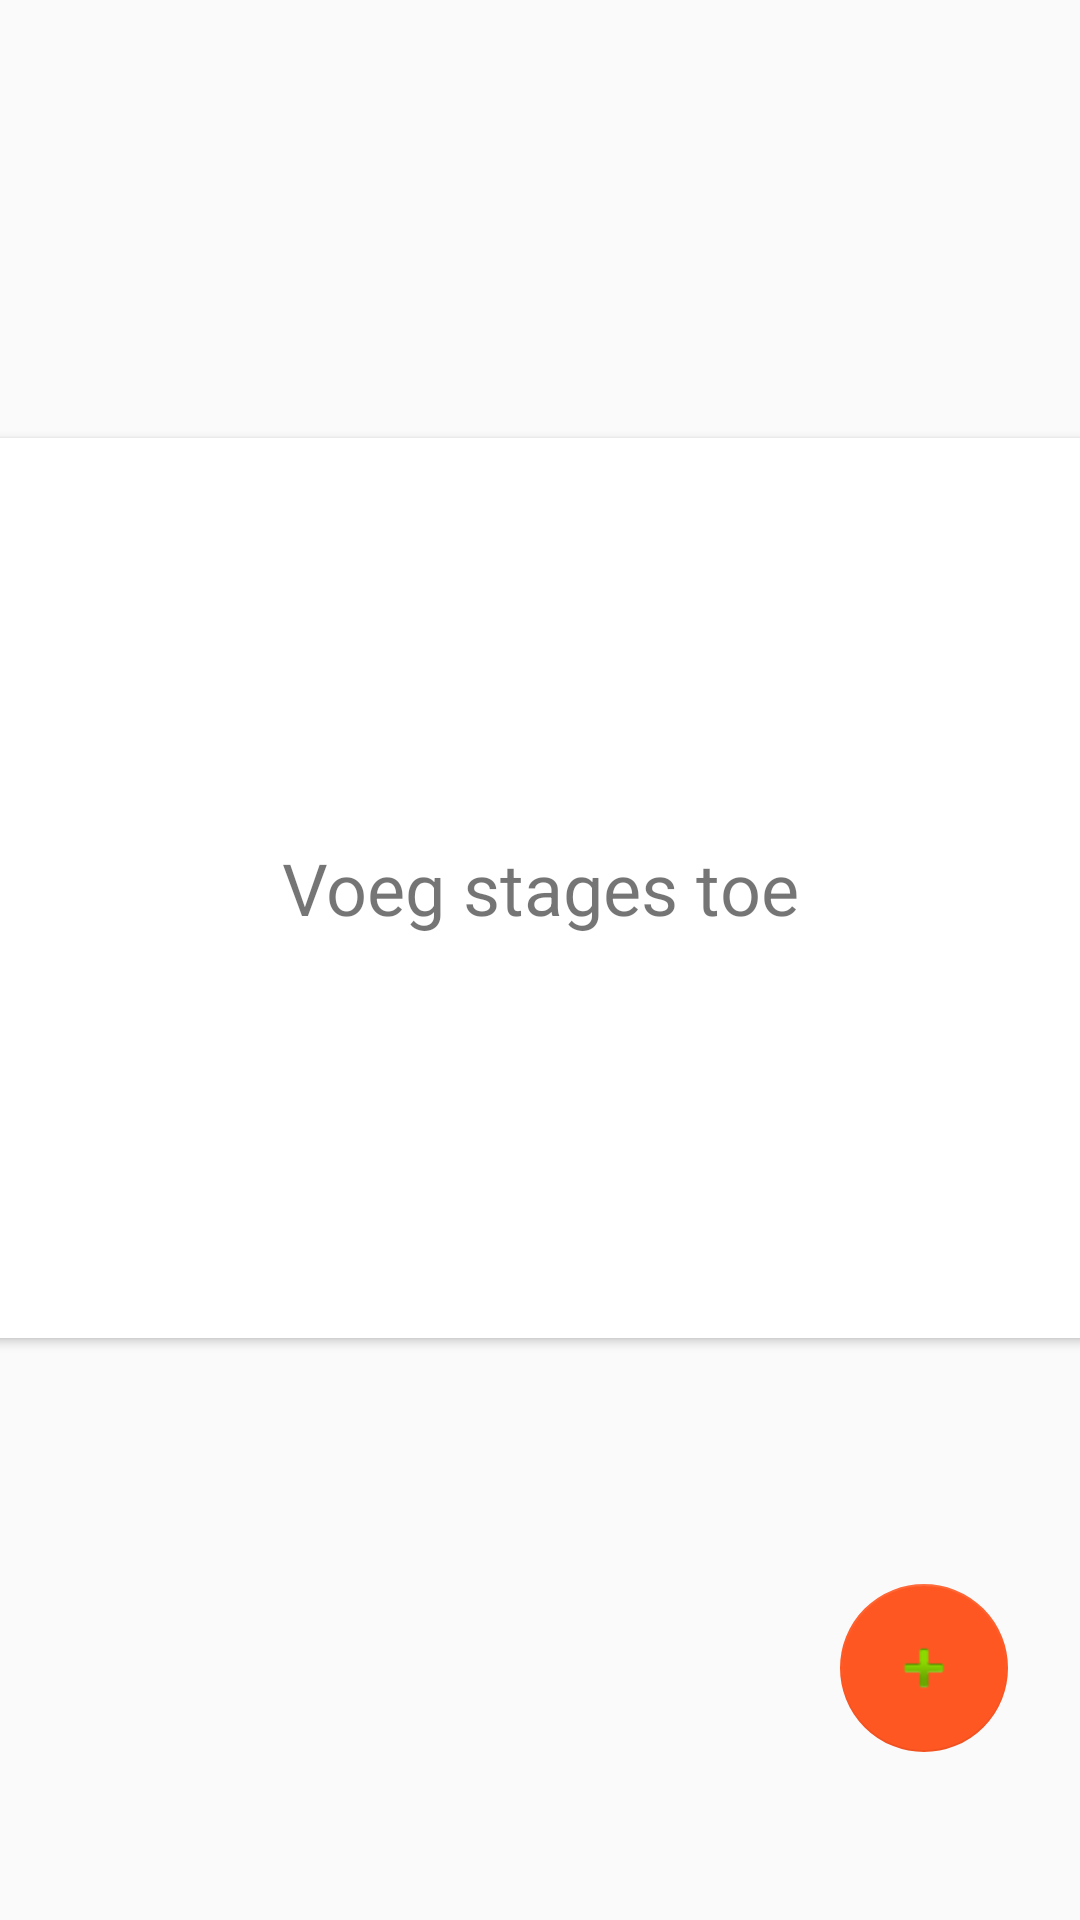

Screen size 1080x1920. Icon name, then its center in pixels as (x,y):
add: (924,1668)
